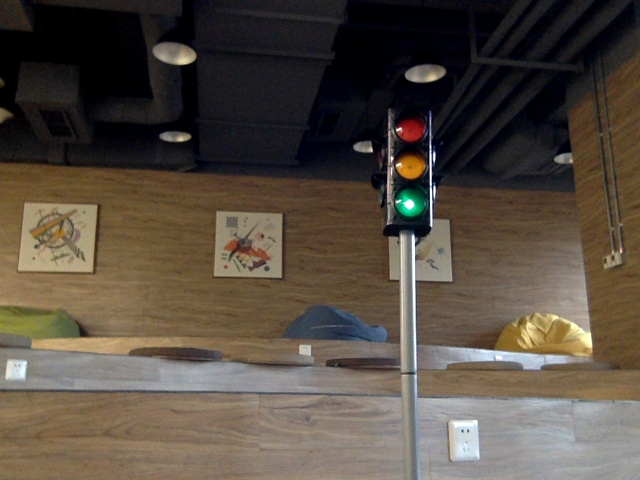green: (387, 117, 430, 219)
